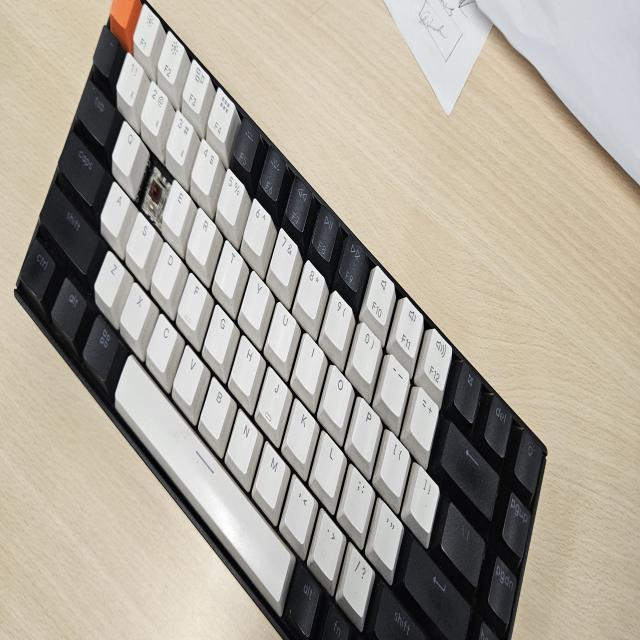C: (142, 178, 165, 214), (145, 169, 163, 207)
